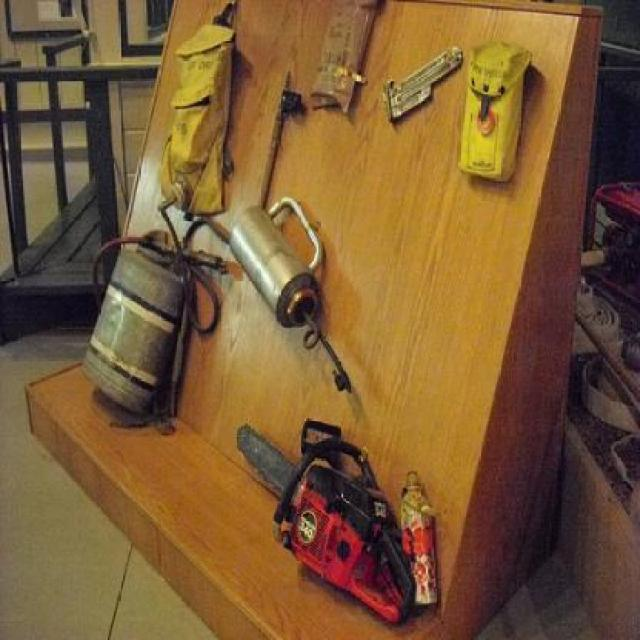Chainsaw: (232, 415, 448, 634)
